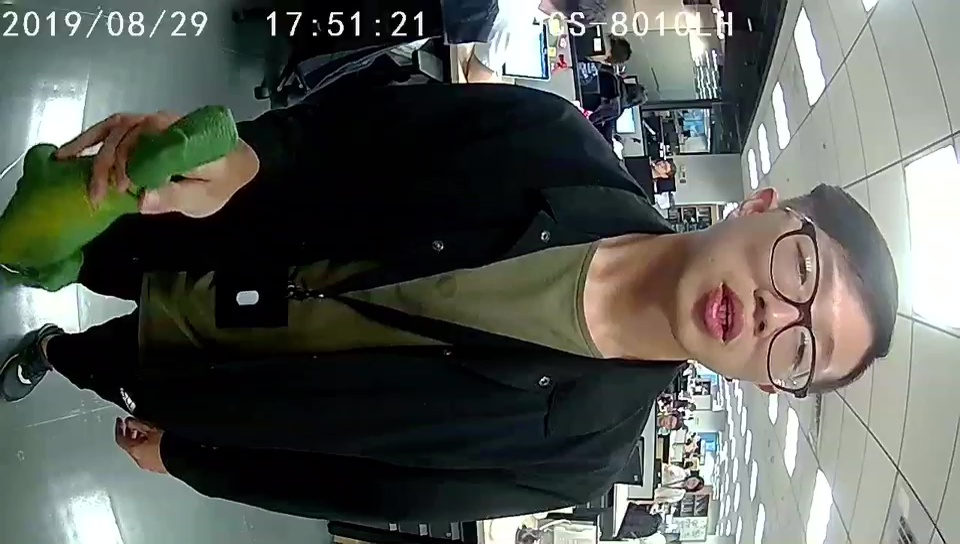rex: (3, 102, 242, 297)
